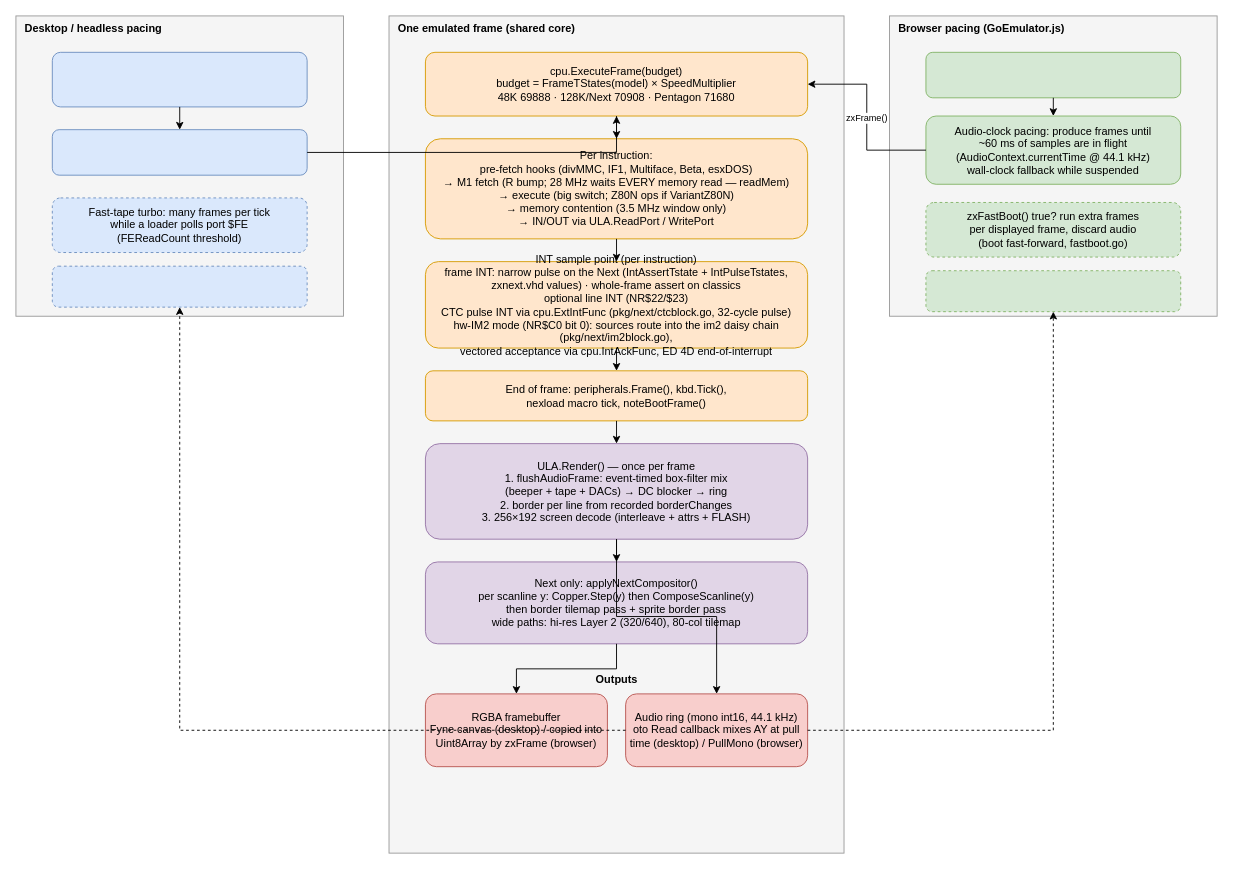
Some shapes in this 1233 by 869 pixel diagram are drawn without their labels. The centre of each missing label's shape, as x and y in pixels:
"50 Hz wall-clock ticker time.Ticker(20 ms) gui_desktop.go run()" belongs at pixel 179 79.
"oto pulls mixed audio itself (ring buffer, 882 samples/frame)" belongs at pixel 179 286.
"rdbg.WaitIfPaused() debugger pause gate" belongs at pixel 179 152.
"requestAnimationFrame loop GoEmulator.js loop(t)" belongs at pixel 1053 74.
"zxPullAudio() → AudioWorklet (zx-feeder.worklet.js, real file for CSP)" belongs at pixel 1053 291.
